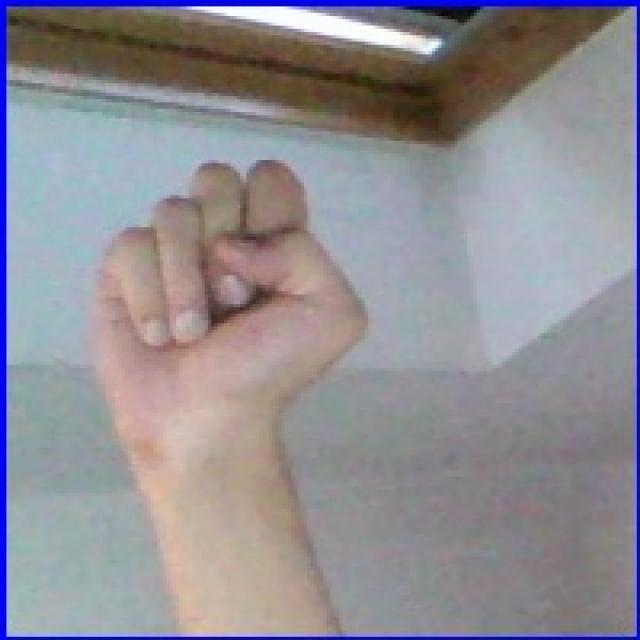Letra-S: (74, 126, 394, 551)
